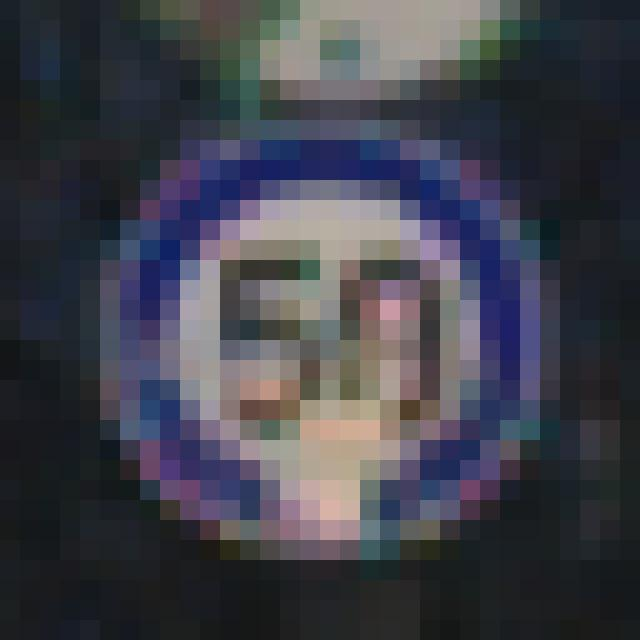SPEED LIMIT 50: (146, 182, 468, 500)
